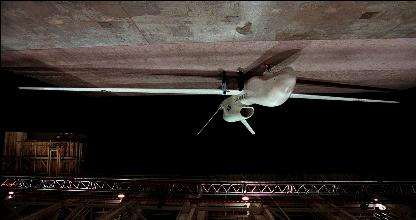P3: (19, 63, 402, 133)
